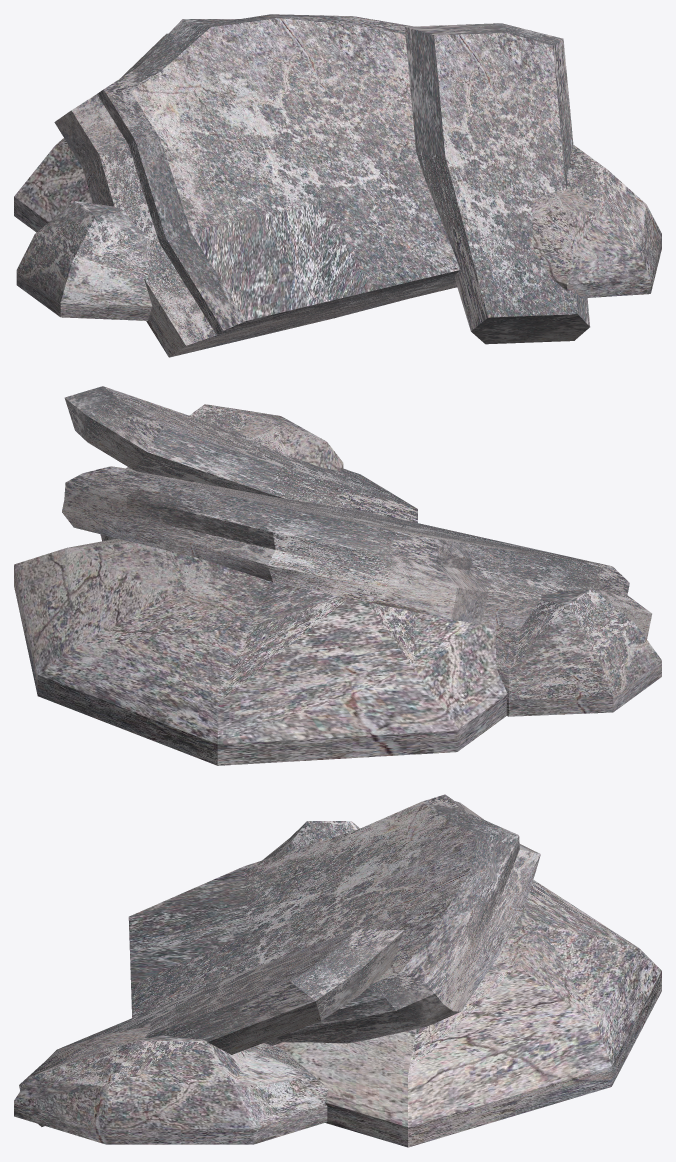
File: rubble2.dae
3 renders of one model, top to bottom at view 1: azimuth 30°, elevation 25°; view 2: azimuth 150°, elevation 25°; view 3: azimuth 270°, elevation 25°, orthographic. The views are drawn at different scales.
Parts seen in each view (by area): view 1: meshU3D; view 2: meshU3D; view 3: meshU3D.
Boxes of the visible parts, box(x1,y1,x2,y2) form: meshU3D: box(14, 14, 661, 357); meshU3D: box(14, 386, 661, 765); meshU3D: box(14, 794, 661, 1147).
Bounding box in the file's own units: 42.71 × 15.7 × 43.51.
1 material, 1 textured.
